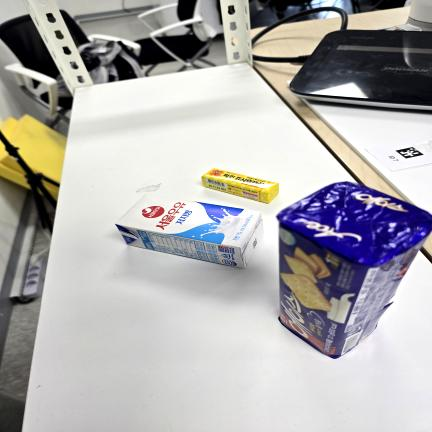cracker_ace: (277, 182, 432, 358)
gum_yellow: (202, 168, 279, 203)
milk_blue: (116, 194, 263, 268)
